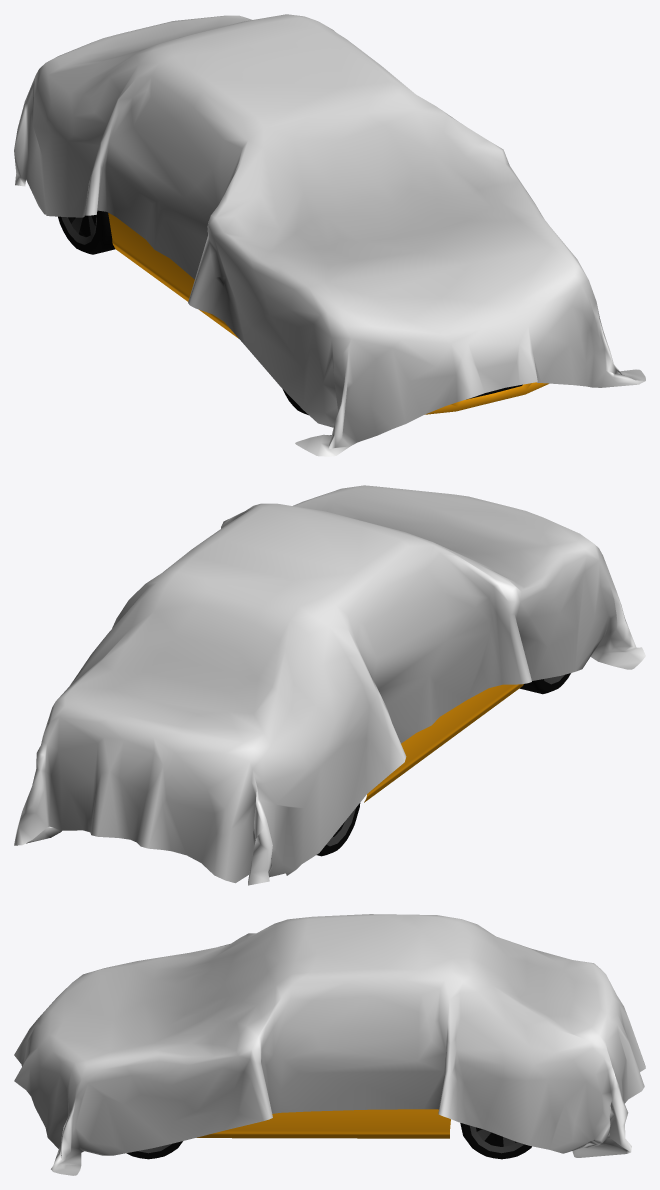
3 renders of one model, top to bottom at view 1: azimuth 30°, elevation 25°; view 2: azimuth 150°, elevation 25°; view 3: azimuth 270°, elevation 25°, orthographic. The views are drawn at different scales.
Parts seen in each view (by area): view 1: Plane.024; view 2: Plane.024; view 3: Plane.024.
Part boxes in pixels (x1,y1,x2,y2): Plane.024: (14,14,645,456); Plane.024: (14,485,645,885); Plane.024: (14,914,645,1175).
Bounding box in the file's own units: 2.29 × 4.65 × 1.39.
